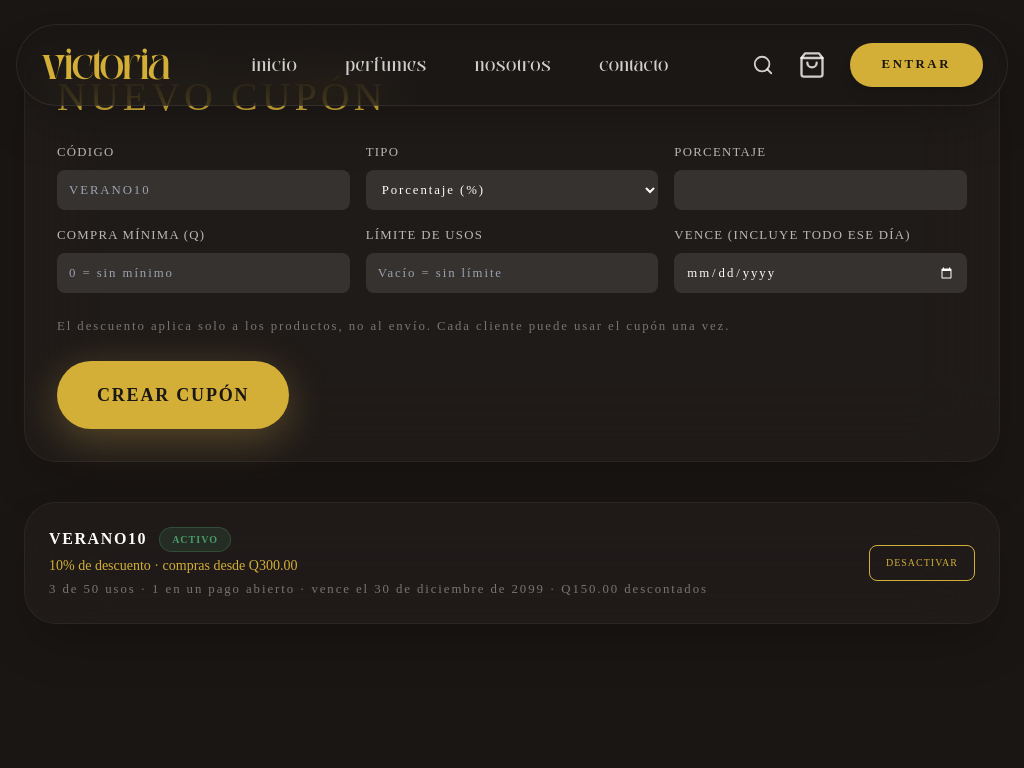
Test: panel: cupones › desactiva un cupón
The image size is (1024, 768).
(page scrolled)
Click the button "Desactivar": (922, 563) 869,545 -> 975,581
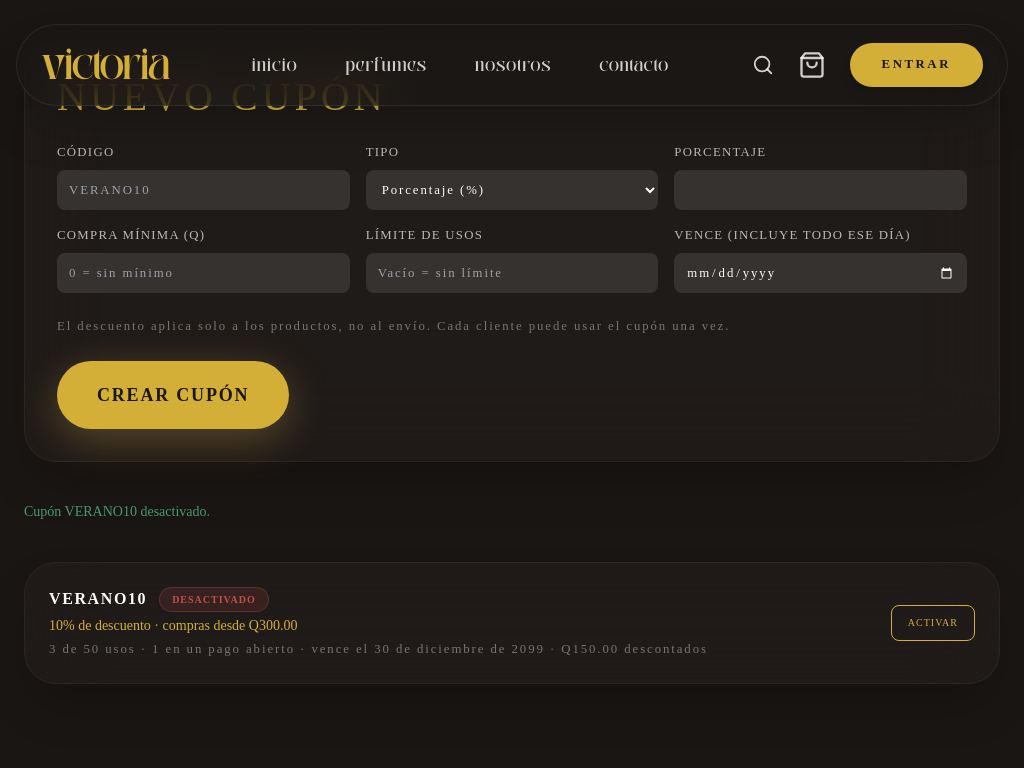
expect the button "Activar" is shown: met, box 891,605 -> 975,641
expect the text "Desactivado" is shown: met, box 159,587 -> 269,612
